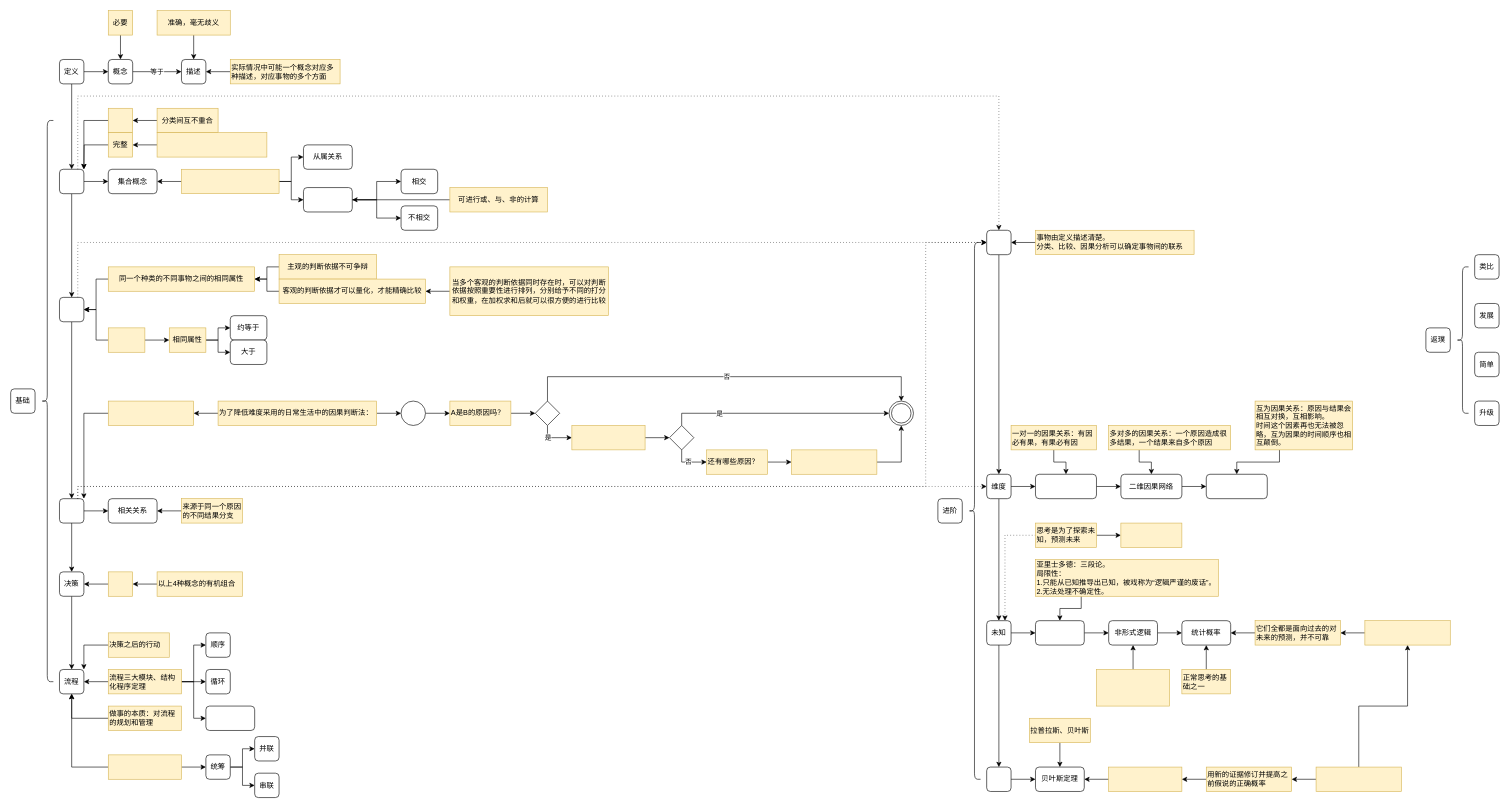
Image size: 1510x808. Some labels were removed from this diagram. The centre of each missing label's shape, as x and y in pixels:
A是B的唯一原因吗？: (x=608, y=437)
一次性计算，无法递归、迭代使用: (x=1407, y=632)
一维因果线条: (x=1065, y=486)
三维因果系统: (x=1236, y=486)
严谨的科学研究中的因果关系耗时、费力、伤财: (x=151, y=412)
人工智能的终极算法: (x=1145, y=778)
关系: (x=998, y=242)
分类: (x=71, y=181)
判断: (x=120, y=583)
判断与分支: (x=230, y=717)
可以反复 递归、迭代使用: (x=1358, y=778)
合理: (x=120, y=120)
同一范畴: (x=126, y=339)
同属关系: (x=327, y=199)
因果: (x=71, y=510)
如果有很多原因，那A是不是B的最重要原因？: (x=834, y=461)
巫术、宗教、科学: (x=1151, y=534)
形式逻辑: (x=1059, y=632)
所有分类加起来应该等于全部: (x=211, y=144)
批判性思维 局限性：不能数学化，无法批量、大规模、自动计算。: (x=1133, y=687)
提高效率，就是对流程的优化: (x=144, y=766)
曙光: (x=998, y=778)
比较: (x=71, y=309)
由一个或多个概念构成的整体: (x=230, y=181)
